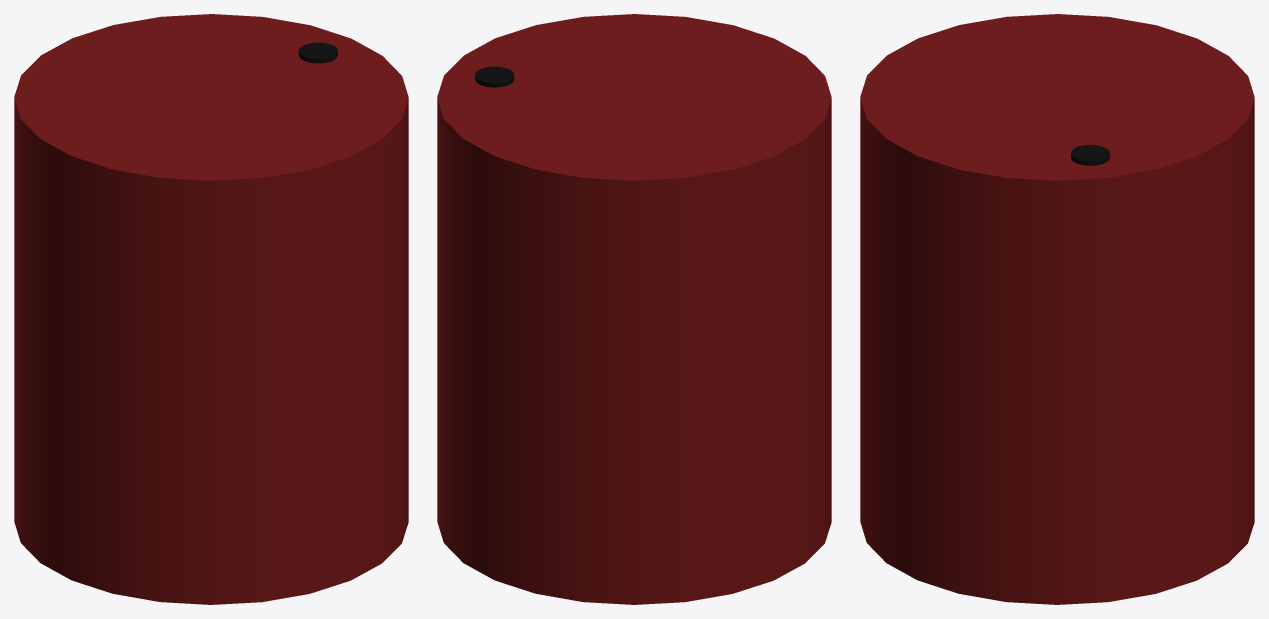
File: BarrelBoi.fbx
3 renders of one model, left to right at view 1: azimuth 30°, elevation 25°; view 2: azimuth 150°, elevation 25°; view 3: azimuth 270°, elevation 25°, orthographic.
Parts seen in each view (by area): view 1: Oil Barrel004; view 2: Oil Barrel004; view 3: Oil Barrel004.
Part boxes in pixels (x1,y1,x2,y2): Oil Barrel004: [14, 14, 408, 604]; Oil Barrel004: [437, 14, 831, 604]; Oil Barrel004: [860, 14, 1254, 604].
Bounding box in the file's own units: 0.0252 × 0.0252 × 0.0302.
